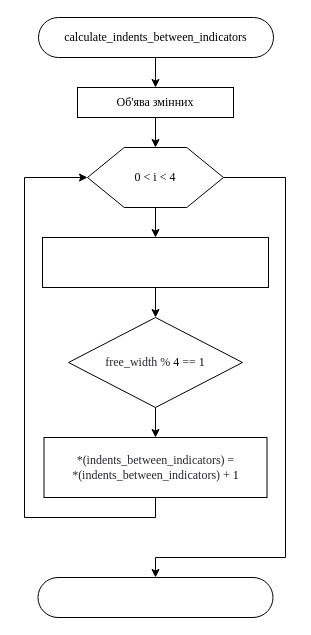
Some shapes in this 311 by 635 pixel diagram are drawn without their labels. Each missing label, with the centre of its shape:
"*(indents_between_indicators + i) = free_width / 4 ;" belongs at [155,262].
"Кінець" belongs at [155,597].
